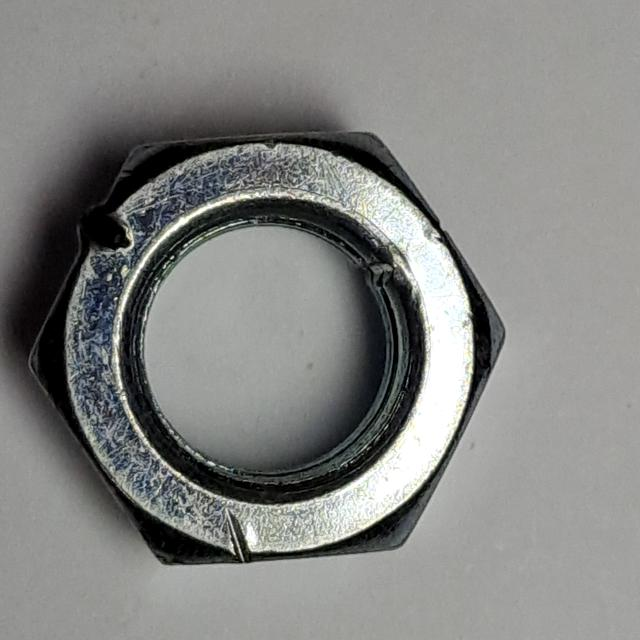Scratches: (16, 122, 519, 586)
